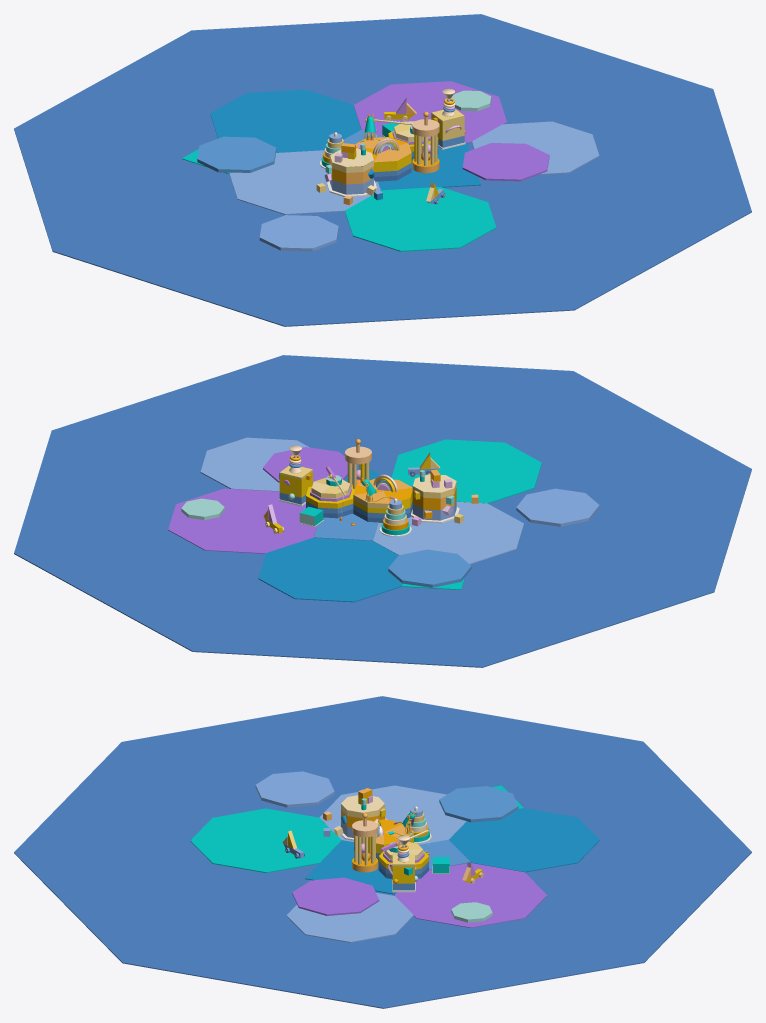
Rendered from newIsLand.glb.
3 renders of one model, top to bottom at view 1: azimuth 30°, elevation 25°; view 2: azimuth 150°, elevation 25°; view 3: azimuth 270°, elevation 25°, orthographic. The views are drawn at different scales.
Visible parts, largest first — view 1: Base_3, Cylinder_2_13, Cylinder_1_12, Cylinder_5_4, Cylinder_3_11, Cylinder_9_3, Cylinder_11_3, Cylinder_14, Cylinder_6_2, Cylinder_7_4, Base, Base_1 (+2 smaller); view 2: Base_3, Cylinder_1_12, Cylinder_3_11, Cylinder_2_13, Cylinder_5_4, Cylinder_9_3, Cylinder_6_2, Cylinder_14, Cylinder_11_3, Base_1, Base, Cube_8_2 (+4 smaller); view 3: Base_3, Cylinder_2_13, Cylinder_1_12, Cylinder_3_11, Cylinder_9_3, Cylinder_5_4, Cylinder_11_3, Cylinder_14, Cylinder_6_2, Cylinder_7_4, Base, Cube_8_2 (+3 smaller).
Boxes of the visible parts, <box> form: Base_3: <box>14,14,751,326</box>; Cylinder_2_13: <box>345,187,496,251</box>; Cylinder_1_12: <box>210,89,361,152</box>; Cylinder_5_4: <box>229,150,380,214</box>; Cylinder_3_11: <box>354,81,506,143</box>; Cylinder_9_3: <box>472,121,599,174</box>; Cylinder_11_3: <box>462,143,549,181</box>; Cylinder_14: <box>259,215,338,251</box>; Cylinder_6_2: <box>197,136,276,172</box>; Cylinder_7_4: <box>378,142,480,190</box>; Base: <box>330,148,373,194</box>; Base_1: <box>355,137,411,181</box>; Base_3: <box>14,355,751,667</box>; Cylinder_1_12: <box>258,537,402,602</box>; Cylinder_3_11: <box>168,488,316,553</box>; Cylinder_2_13: <box>391,439,541,503</box>; Cylinder_5_4: <box>373,501,523,564</box>; Cylinder_9_3: <box>200,437,309,491</box>; Cylinder_6_2: <box>388,549,471,587</box>; Cylinder_14: <box>516,488,599,526</box>; Cylinder_11_3: <box>263,447,352,482</box>; Base_1: <box>353,478,412,522</box>; Base: <box>412,474,456,520</box>; Cube_8_2: <box>313,514,378,540</box>; Base_3: <box>14,696,751,1008</box>; Cylinder_2_13: <box>190,808,341,873</box>; Cylinder_1_12: <box>449,808,599,872</box>; Cylinder_3_11: <box>394,863,547,927</box>; Cylinder_9_3: <box>286,893,413,942</box>; Cylinder_5_4: <box>319,785,466,844</box>; Cylinder_11_3: <box>292,877,379,915</box>; Cylinder_14: <box>255,771,334,807</box>; Cylinder_6_2: <box>439,786,518,822</box>; Cylinder_7_4: <box>305,840,396,894</box>; Base: <box>341,795,384,837</box>; Cube_8_2: <box>419,839,470,869</box>.
Bounding box in the file's own units: 2235 × 186 × 2235.
